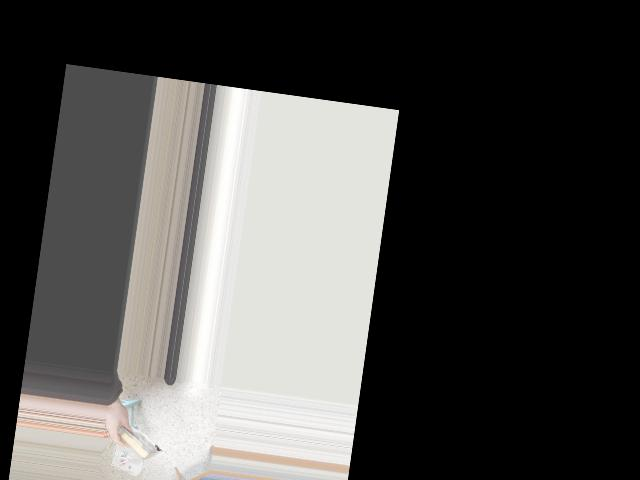cheese: (103, 419, 165, 463)
